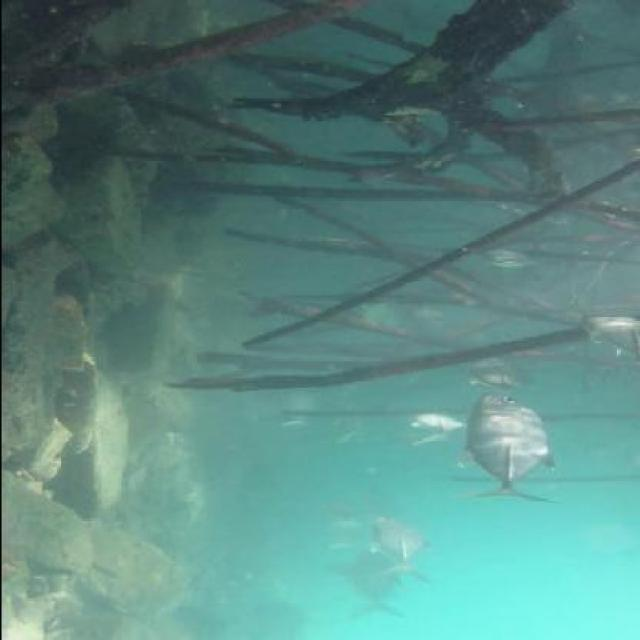Caranx_sexfasciatus_juvenile: (456, 388, 558, 504), (352, 512, 443, 582), (330, 548, 412, 622), (447, 349, 536, 405), (578, 308, 640, 364), (276, 384, 335, 431), (472, 247, 546, 284), (312, 500, 376, 542), (408, 405, 467, 449), (399, 300, 458, 332)
